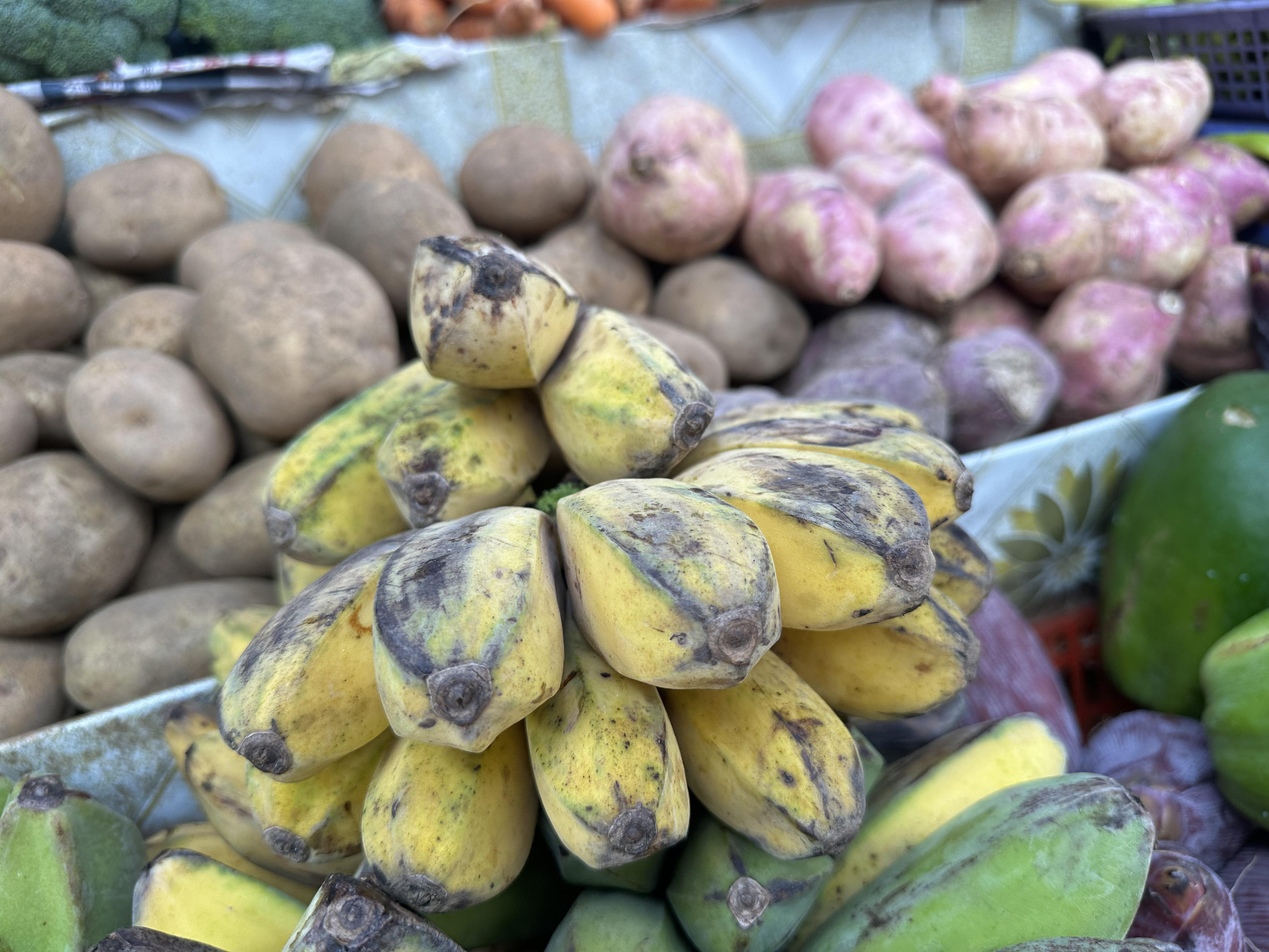underripe: (219, 397, 998, 916), (258, 238, 713, 570)
